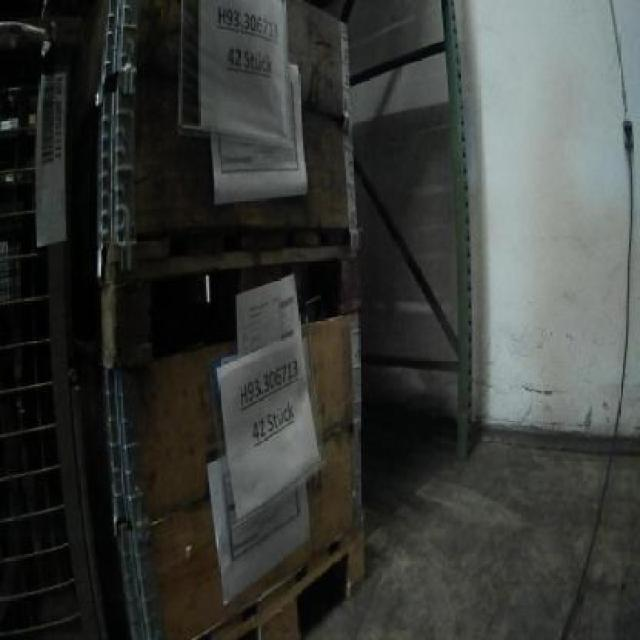ground: (295, 414, 638, 638)
pallet: (187, 507, 377, 638)
